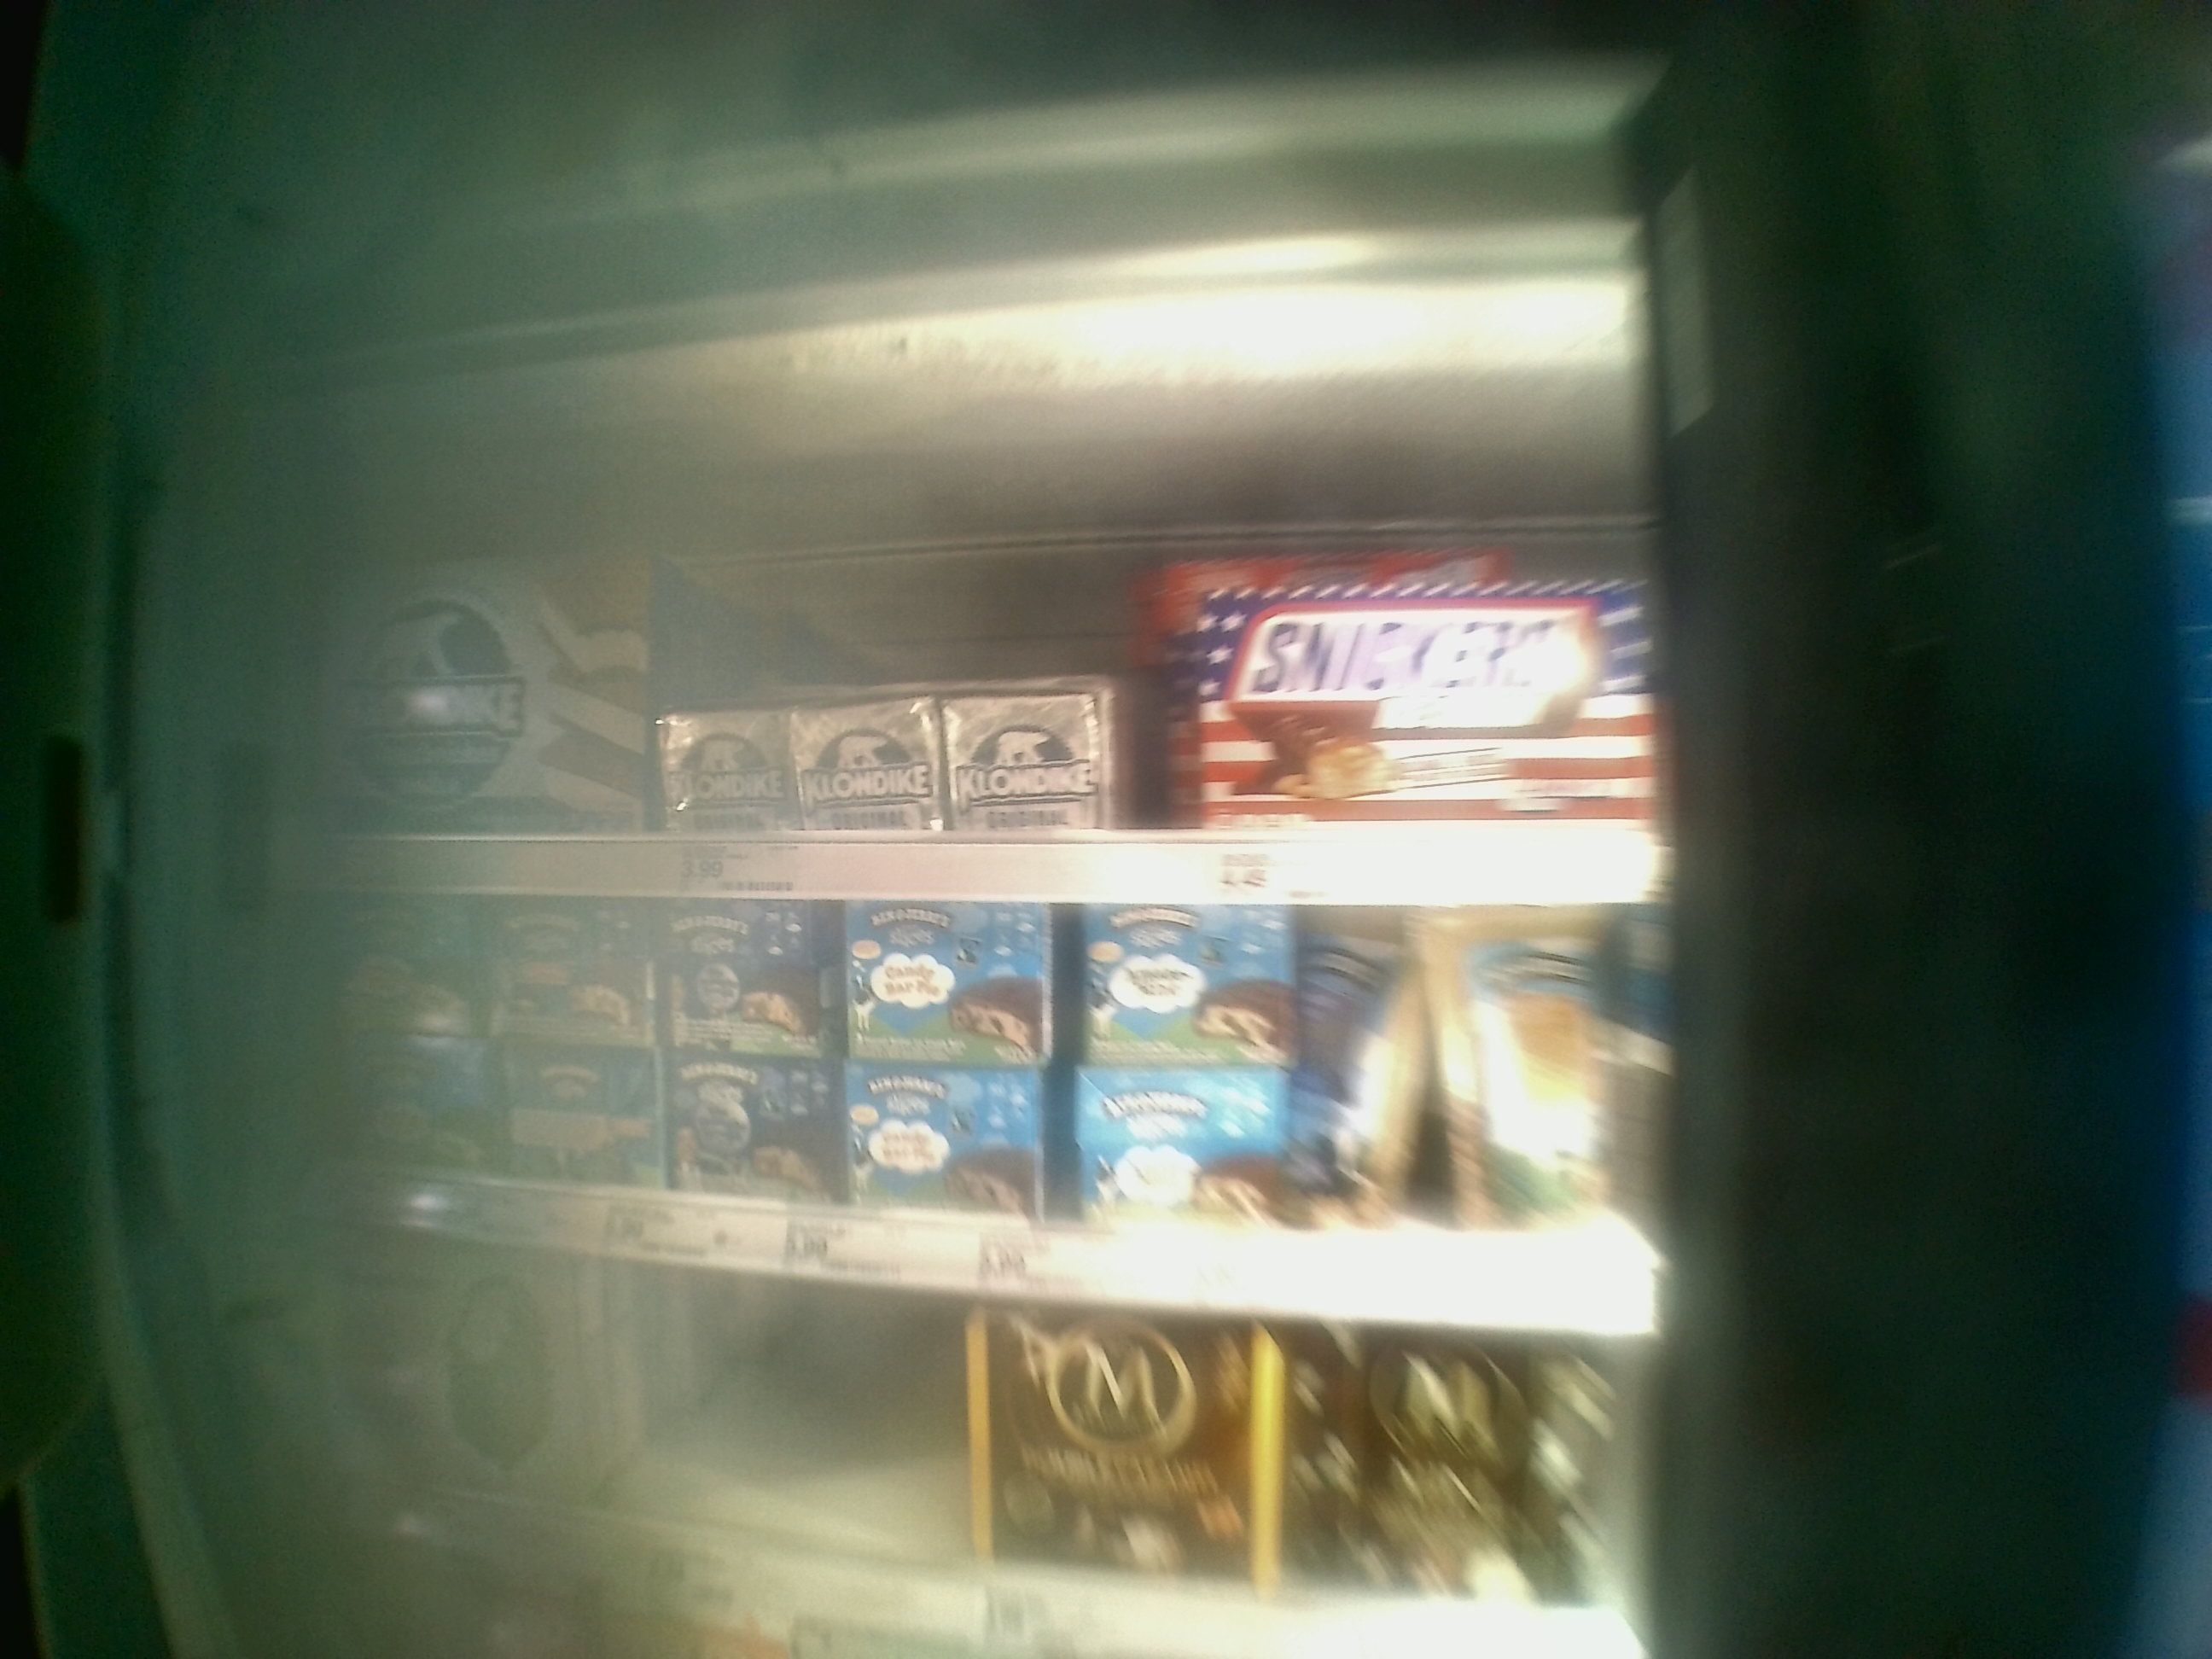ice-cream-shelf: (228, 453, 1689, 908)
